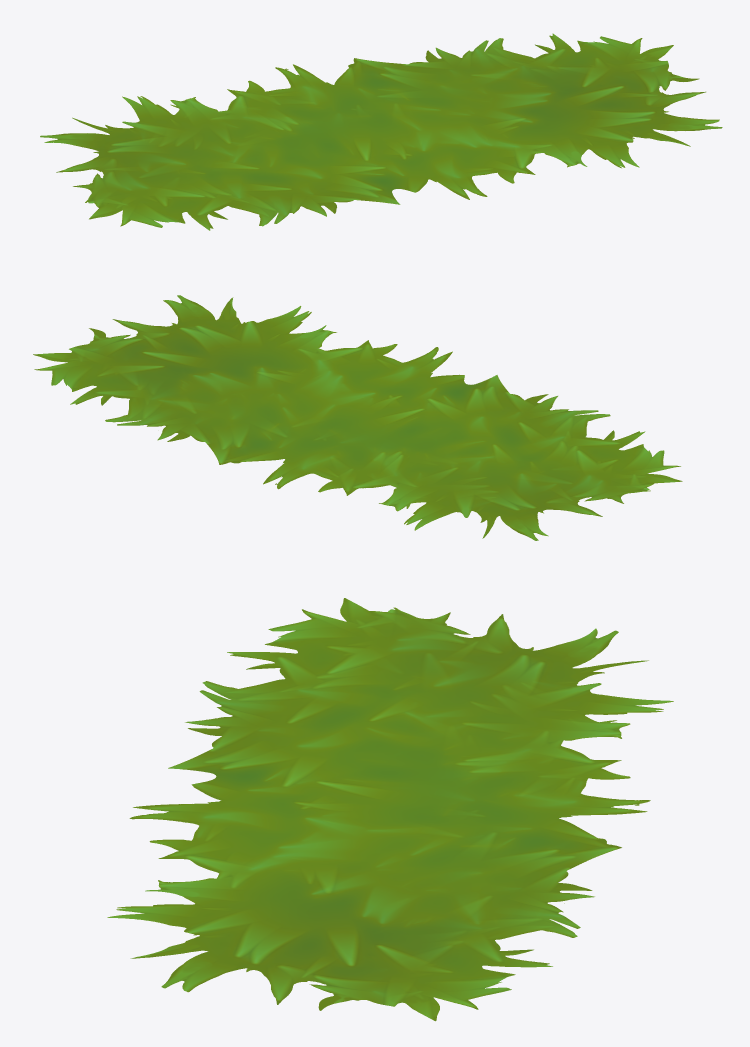
The model's file is Grass_Mask01.fbx.
The picture shows the model from 3 angles, top to bottom: view 1: azimuth 30°, elevation 25°; view 2: azimuth 150°, elevation 25°; view 3: azimuth 270°, elevation 25°; orthographic projection. The views are drawn at different scales.
Visible parts, largest first — view 1: Grass_Mask01; view 2: Grass_Mask01; view 3: Grass_Mask01.
Part boxes in pixels (<box>): Grass_Mask01: <box>40,33,722,230</box>; Grass_Mask01: <box>33,295,682,540</box>; Grass_Mask01: <box>107,598,673,1021</box>.
Size of the model in its own units: 186 by 0 by 123.
1 material, 1 textured.
